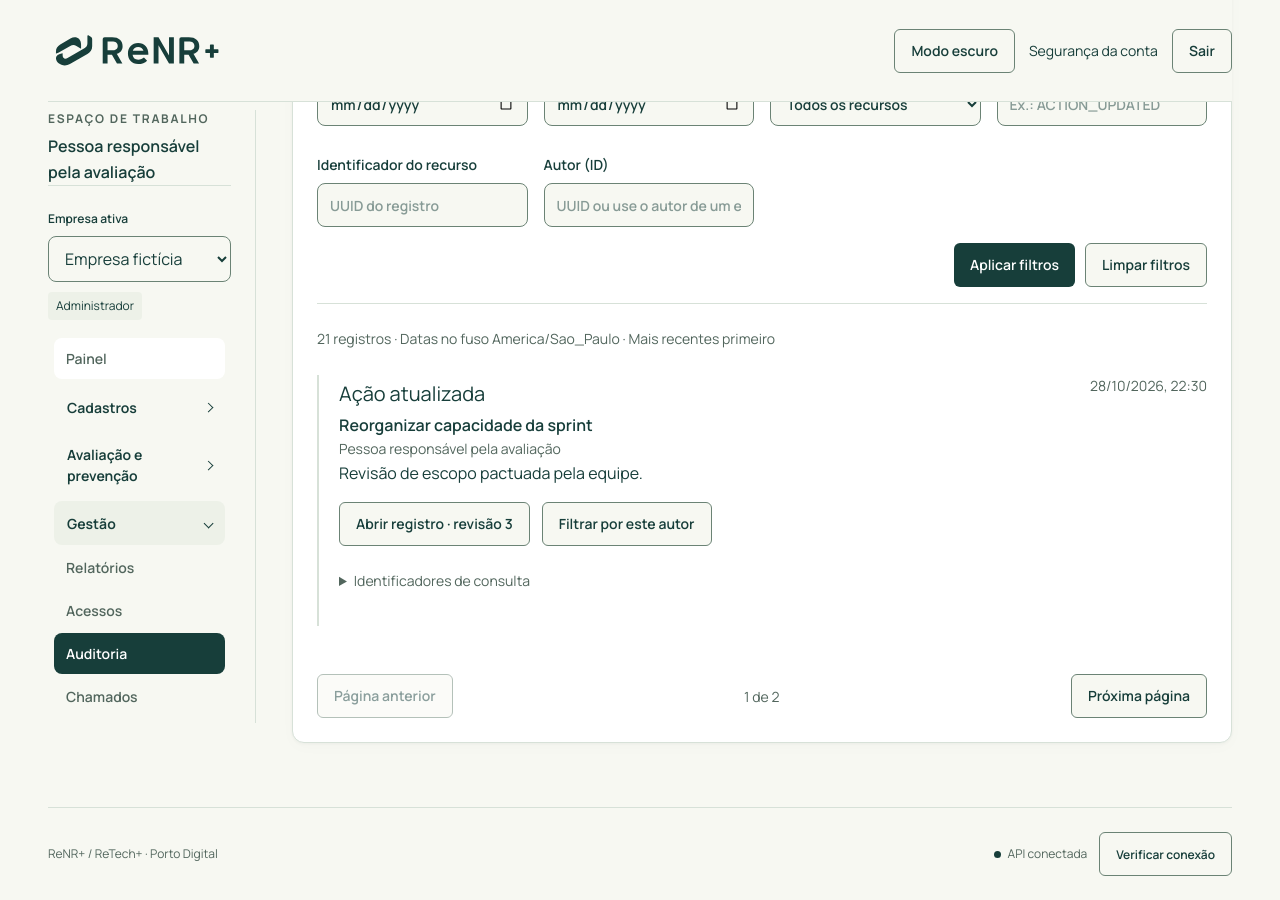
Test: pagina pela URL e remove os dados anteriores quando o acesso é revogado
(page scrolled)
Expected: the text "Revisão de escopo pactuada pela equipe." is shown, [339,462,643,484]
Click the button "Próxima página": (1139, 696) [1071,674,1207,718]
(page scrolled)
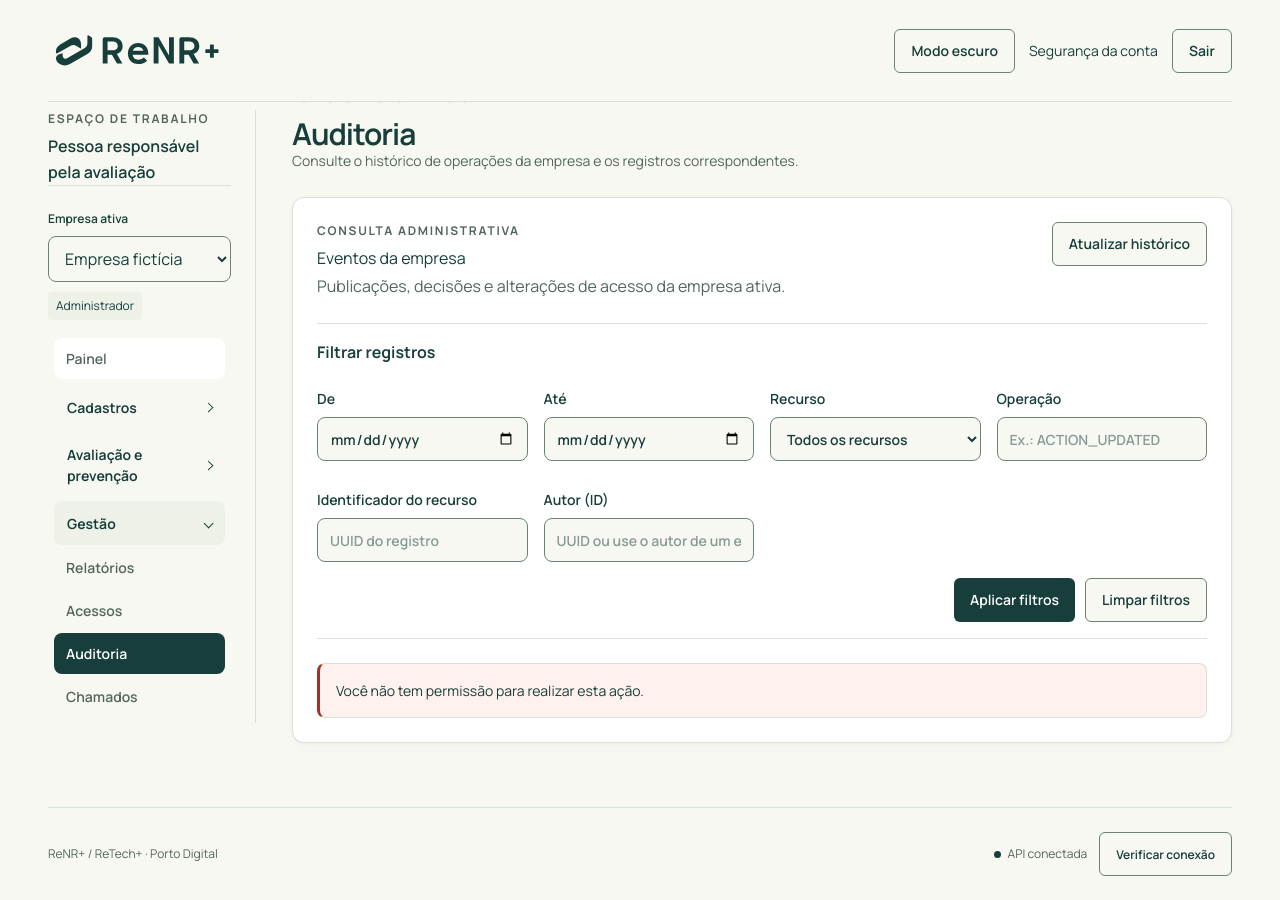
Expected: the message "Você não tem permissão para realizar esta ação." is shown, [317,663,1207,718]
Expected: the text "Revisão de escopo pactuada pela equipe." is gone
